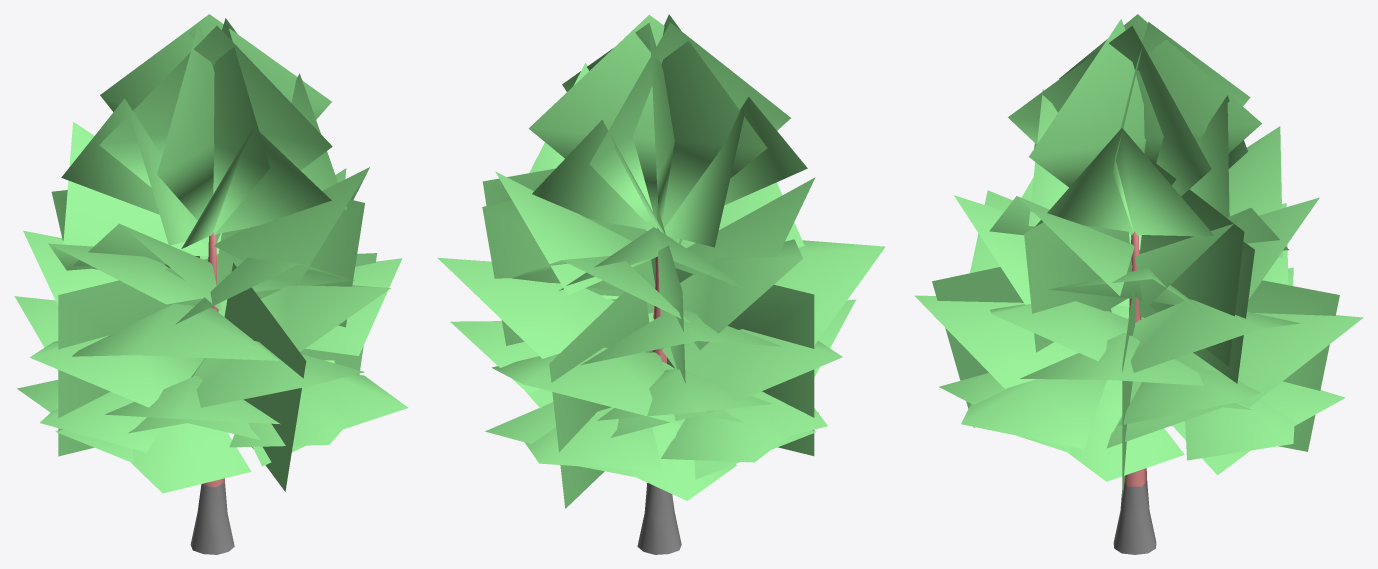
File: Oren_elf_tree02.gltf
The picture shows the model from 3 angles, left to right: view 1: azimuth 30°, elevation 25°; view 2: azimuth 150°, elevation 25°; view 3: azimuth 270°, elevation 25°; orthographic projection.
Parts seen in each view (by area): view 1: Oren_elf_tree02; view 2: Oren_elf_tree02; view 3: Oren_elf_tree02.
Part boxes in pixels (bbox=[...]): Oren_elf_tree02: bbox=[14, 14, 408, 554]; Oren_elf_tree02: bbox=[437, 14, 885, 554]; Oren_elf_tree02: bbox=[914, 14, 1363, 554].
Size of the model in its own units: 6.6 by 9.17 by 7.11.
